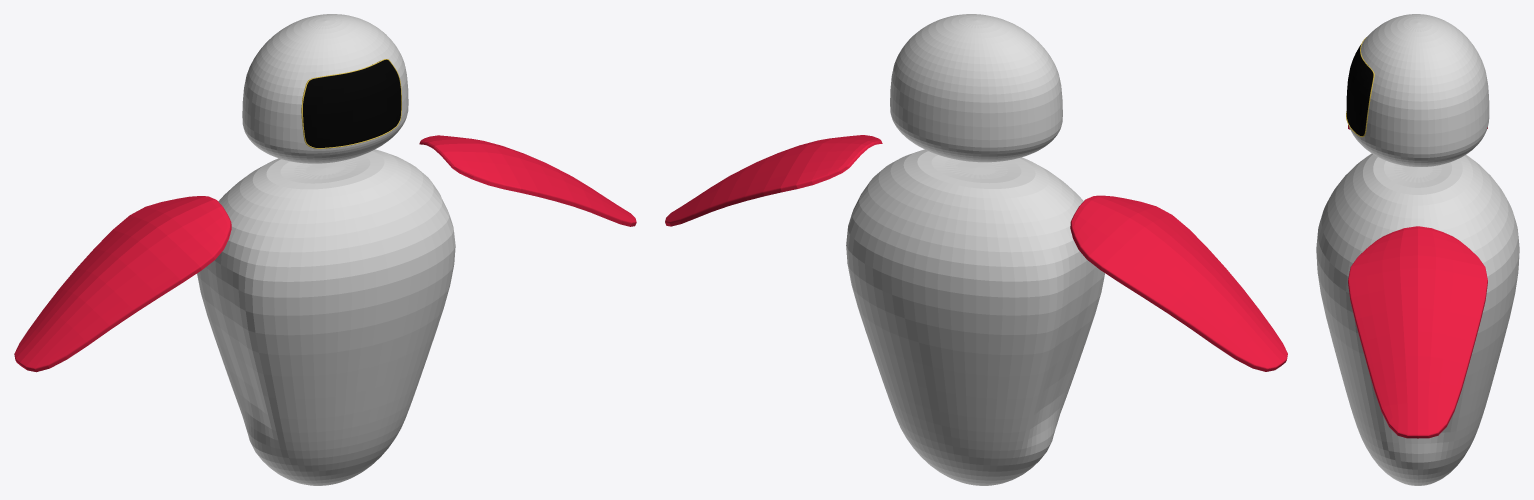
File: Everard_SpinAttack.fbx
3 renders of one model, left to right at view 1: azimuth 30°, elevation 25°; view 2: azimuth 150°, elevation 25°; view 3: azimuth 270°, elevation 25°, orthographic.
Visible parts, largest first — view 1: Body, Head, Arm_Right, Arm_Left; view 2: Body, Head, Arm_Right, Arm_Left; view 3: Body, Arm_Left, Head.
Boxes of the visible parts, x1,y1,x2,y2 form: Body: [197, 149, 455, 485]; Head: [242, 14, 408, 163]; Arm_Right: [14, 196, 231, 372]; Arm_Left: [419, 135, 636, 226]; Body: [846, 149, 1104, 485]; Head: [890, 14, 1062, 162]; Arm_Right: [1070, 195, 1287, 371]; Arm_Left: [665, 135, 882, 226]; Body: [1316, 153, 1519, 485]; Arm_Left: [1348, 226, 1487, 438]; Head: [1346, 14, 1489, 166].
Size of the model in its own units: 424 by 305 by 123.
